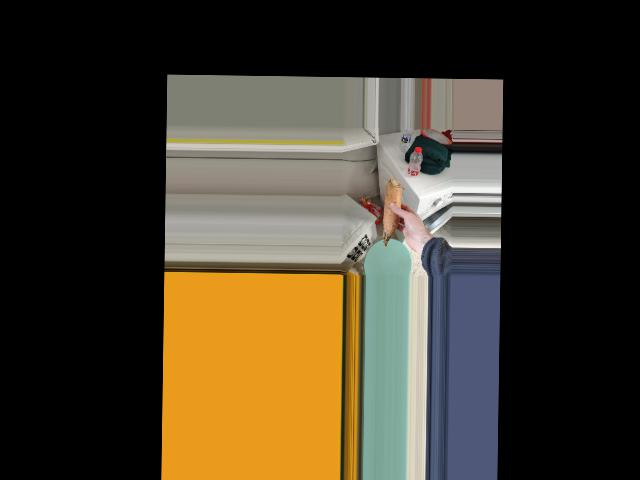sweet_potato: (381, 176, 406, 247)
